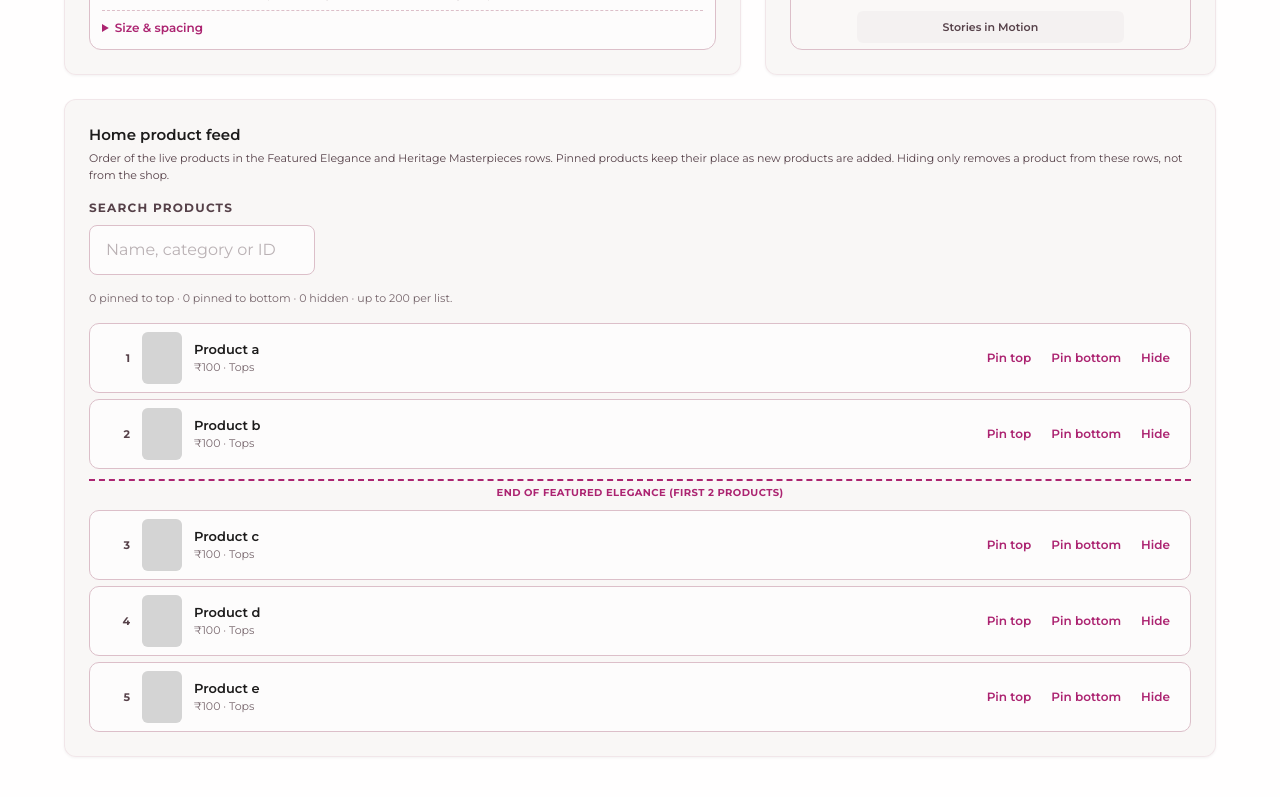
Test: AdminHomeLayoutPage › pins a product to the top and shows it first
(page scrolled)
Click the button "Pin top" in the row of "Product d". click: [1009, 621]
box: [979, 608, 1039, 634]
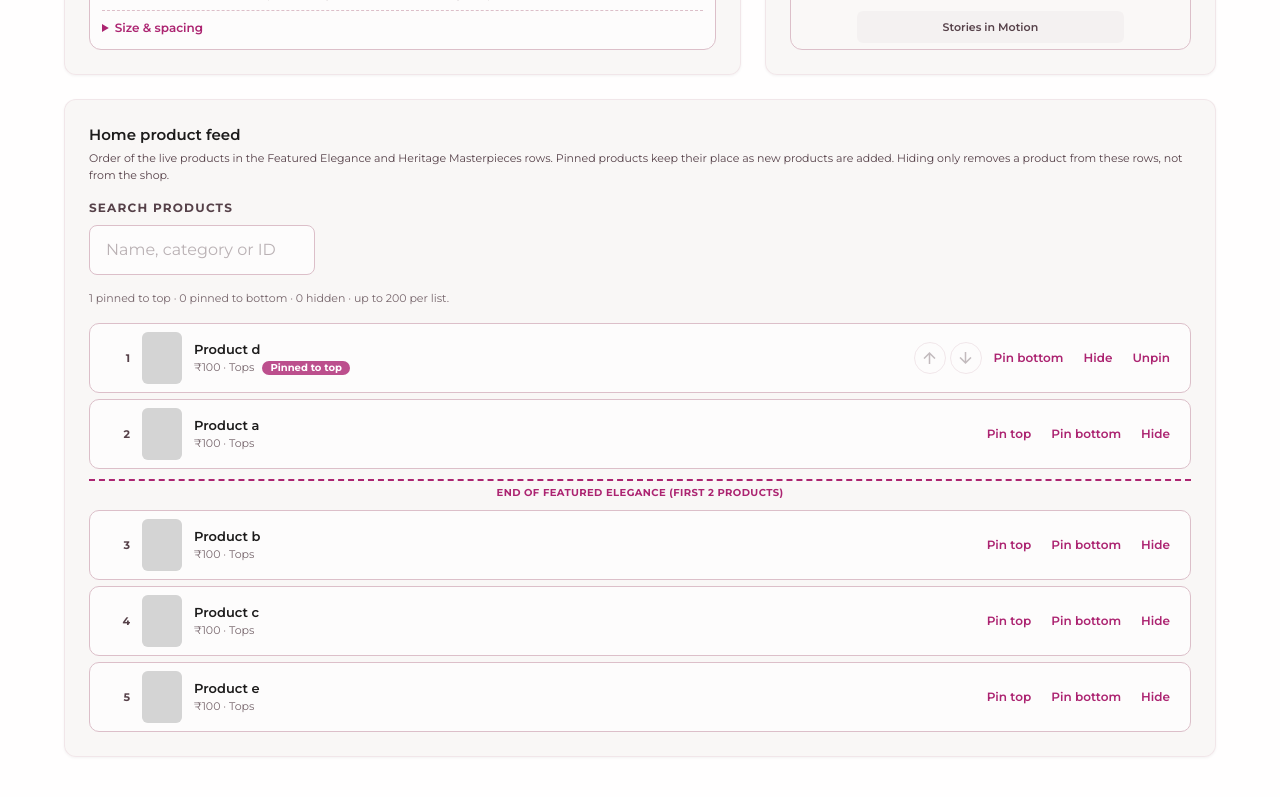
Expected: the text with class "hl-product__name" reads "Product d", [194, 341, 260, 357]
Expected: the text "1 pinned to top · 0 pinned to bottom · 0 hidden · up to 200 per list." is shown, [89, 291, 449, 305]
